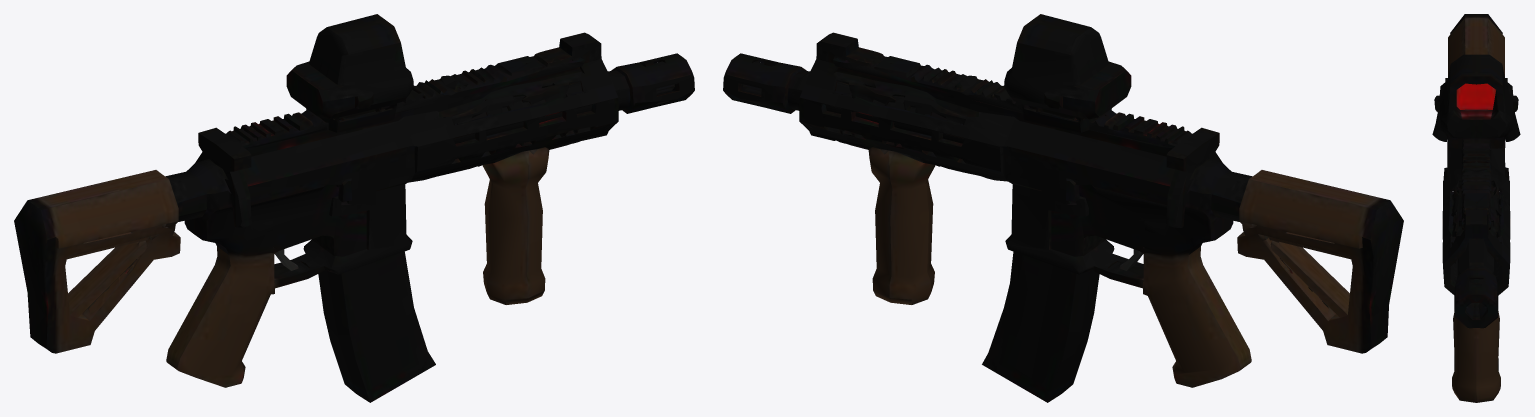
The model's file is gun-rifle.glb.
3 renders of one model, left to right at view 1: azimuth 30°, elevation 25°; view 2: azimuth 150°, elevation 25°; view 3: azimuth 270°, elevation 25°, orthographic. The views are drawn at different scales.
Visible parts, largest first — view 1: world; view 2: world; view 3: world.
Part boxes in pixels (<box>): world: <box>14,14,694,402</box>; world: <box>723,14,1403,402</box>; world: <box>1432,14,1520,402</box>.
Size of the model in its own units: 1 by 0.5368 by 0.1355.
Materials: 1 (1 with a texture image).
